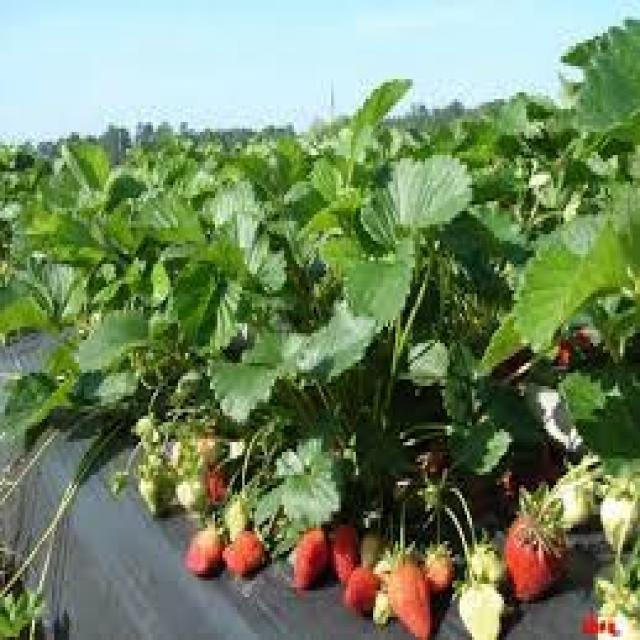Fruta sana: (508, 504, 564, 606), (390, 552, 434, 640), (224, 522, 270, 574), (183, 522, 221, 582), (294, 526, 330, 589), (348, 559, 387, 615), (195, 430, 221, 510), (331, 512, 358, 589), (422, 533, 456, 587)
